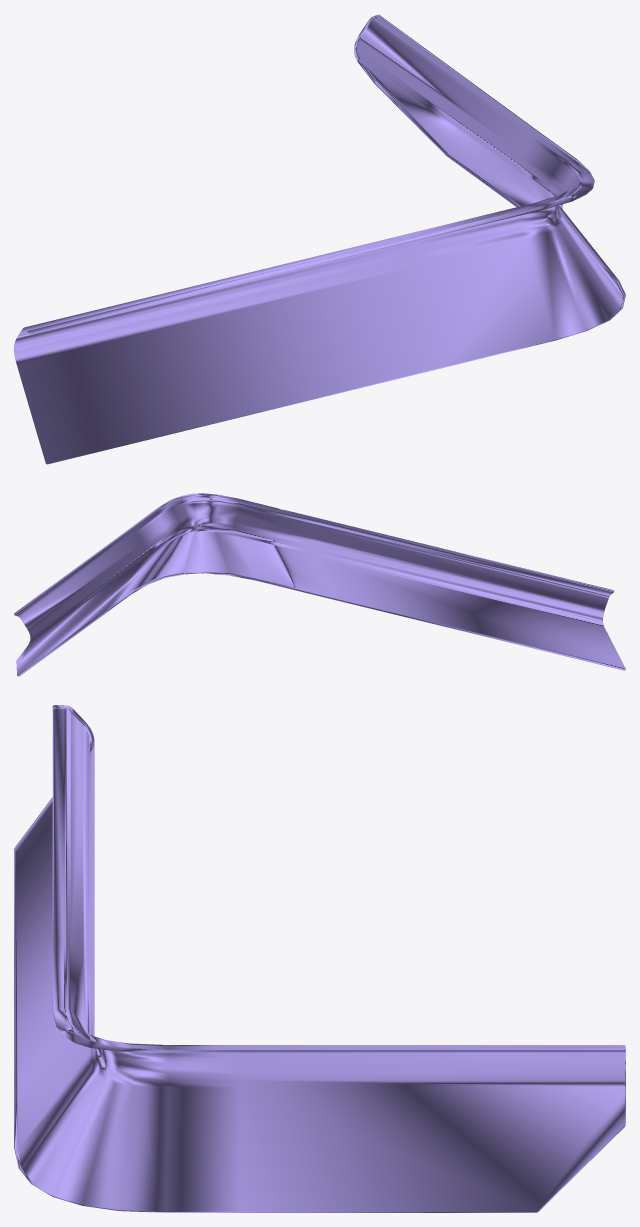
Rendered from greencircle_int_balcony_railings_glass_stairway.glb.
The picture shows the model from 3 angles, top to bottom: view 1: azimuth 30°, elevation 25°; view 2: azimuth 150°, elevation 25°; view 3: azimuth 270°, elevation 25°; orthographic projection. The views are drawn at different scales.
Bounding box in the file's own units: 5.59 × 1.05 × 3.99.
